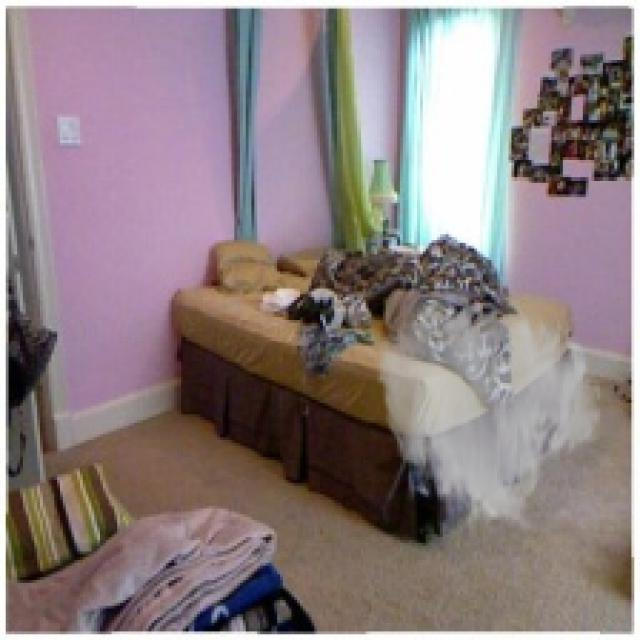smoke: (374, 294, 606, 537)
